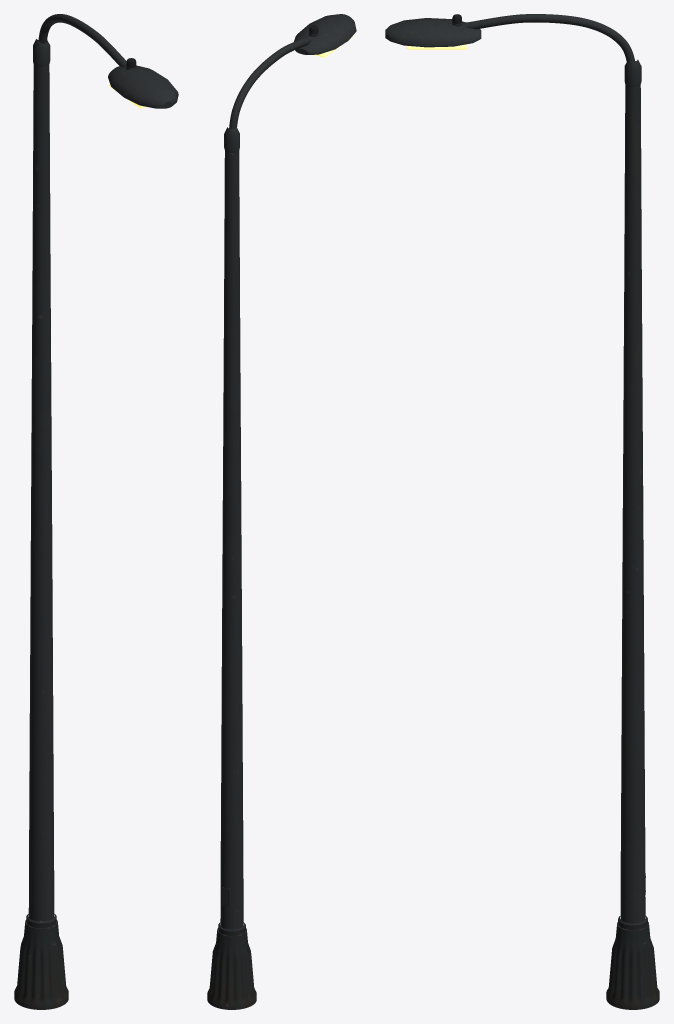
File: SM_Streetlight.glb
3 views of the same model, side by side, from view 1: azimuth 30°, elevation 25°; view 2: azimuth 150°, elevation 25°; view 3: azimuth 270°, elevation 25° (orthographic). The views are drawn at different scales.
Parts seen in each view (by area): view 1: SM_Streetlight; view 2: SM_Streetlight; view 3: SM_Streetlight.
Part boxes in pixels (x1=…): SM_Streetlight: x1=14, y1=14, x2=178, y2=1009; SM_Streetlight: x1=207, y1=14, x2=356, y2=1009; SM_Streetlight: x1=385, y1=14, x2=659, y2=1009.
Size of the model in its own units: 0.4 by 8.15 by 2.06.
Materials: 4 (4 with a texture image).
